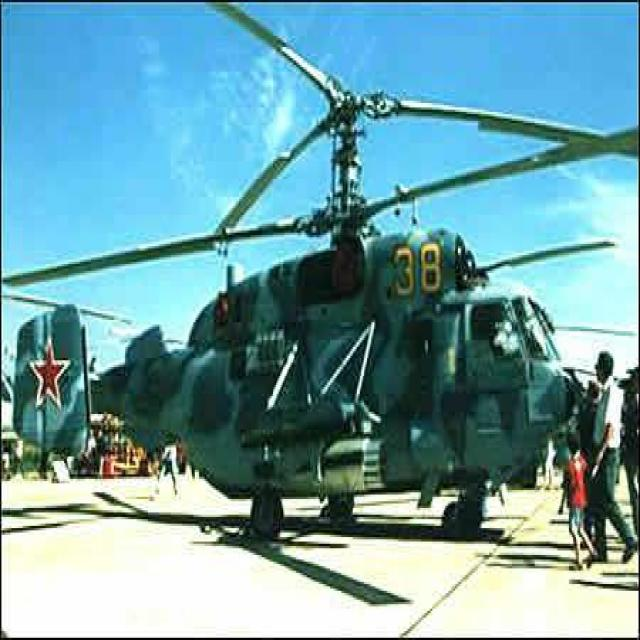MIL_HELO: (0, 0, 639, 544)
